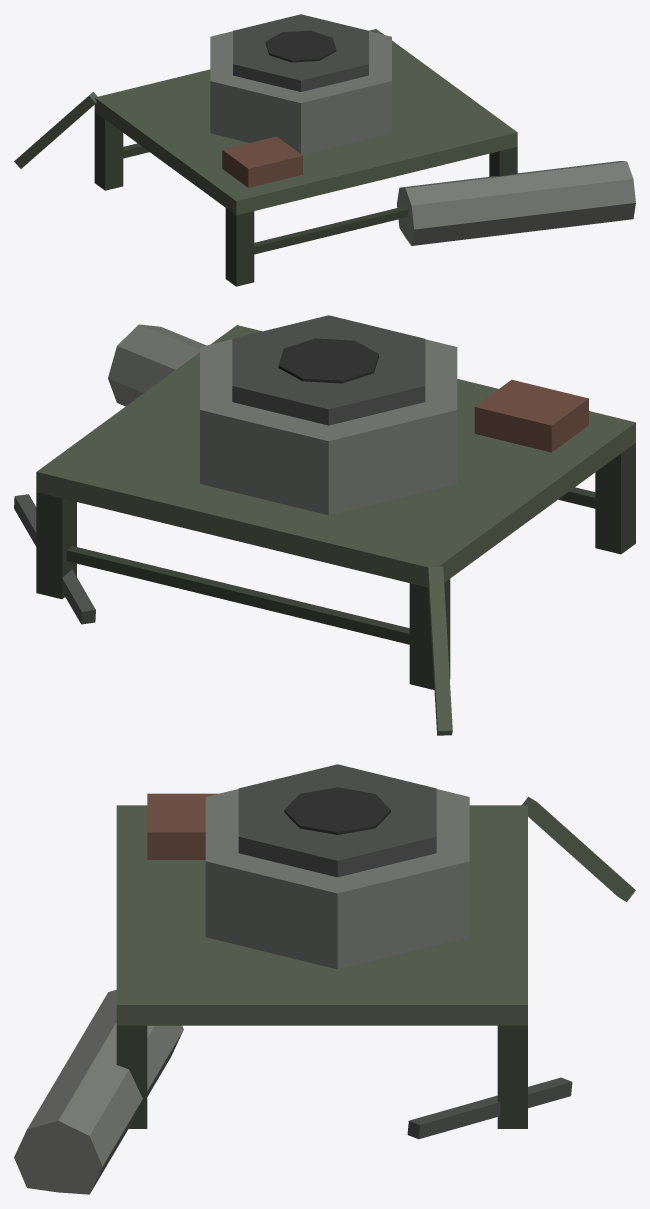
The model's file is ancient_drill_platform_2.obj.
The picture shows the model from 3 angles, top to bottom: view 1: azimuth 30°, elevation 25°; view 2: azimuth 150°, elevation 25°; view 3: azimuth 270°, elevation 25°; orthographic projection. The views are drawn at different scales.
Parts seen in each view (by area): view 1: ancient_drill_platform_2; view 2: ancient_drill_platform_2; view 3: ancient_drill_platform_2.
Boxes of the visible parts, left/top/right/bottom form: ancient_drill_platform_2: left=14, top=14, right=635, bottom=286; ancient_drill_platform_2: left=14, top=315, right=635, bottom=735; ancient_drill_platform_2: left=14, top=764, right=635, bottom=1194.
Size of the model in its own units: 4.67 by 1.59 by 4.08.
